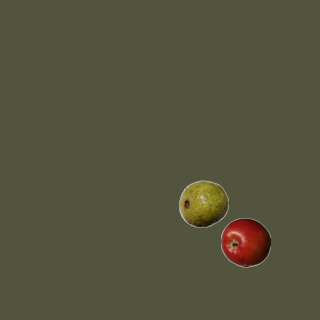Apple Braeburn: (220, 217, 270, 267)
Guava: (178, 178, 228, 228)
